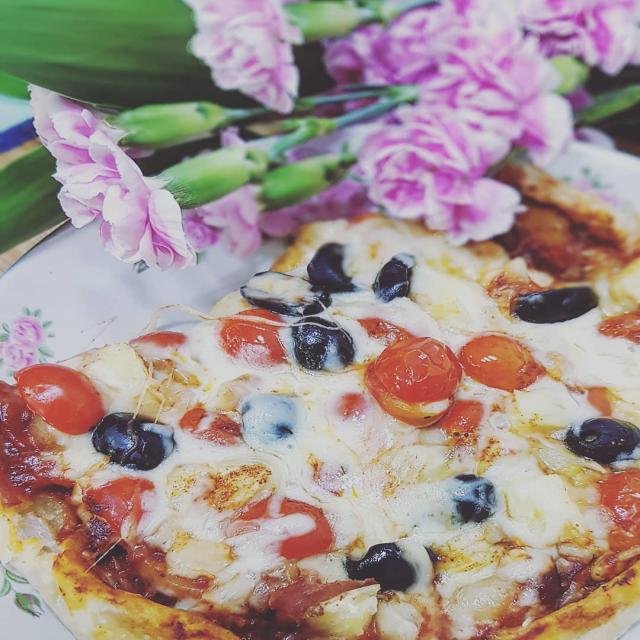black_olives: (91, 414, 178, 471), (349, 540, 437, 592), (244, 276, 331, 315), (293, 321, 357, 371), (512, 285, 596, 323), (564, 418, 640, 460), (450, 472, 499, 520), (370, 250, 415, 302), (312, 245, 354, 292)
pizza: (0, 208, 640, 640)
tomatoes: (13, 364, 104, 435), (379, 342, 463, 405), (242, 501, 334, 557), (362, 372, 448, 424), (84, 473, 158, 533), (461, 336, 543, 390), (220, 310, 287, 365), (601, 468, 640, 537), (182, 410, 238, 444), (134, 331, 188, 362), (356, 317, 416, 343), (599, 305, 640, 338), (448, 401, 490, 433), (493, 275, 536, 303), (341, 392, 365, 421)
